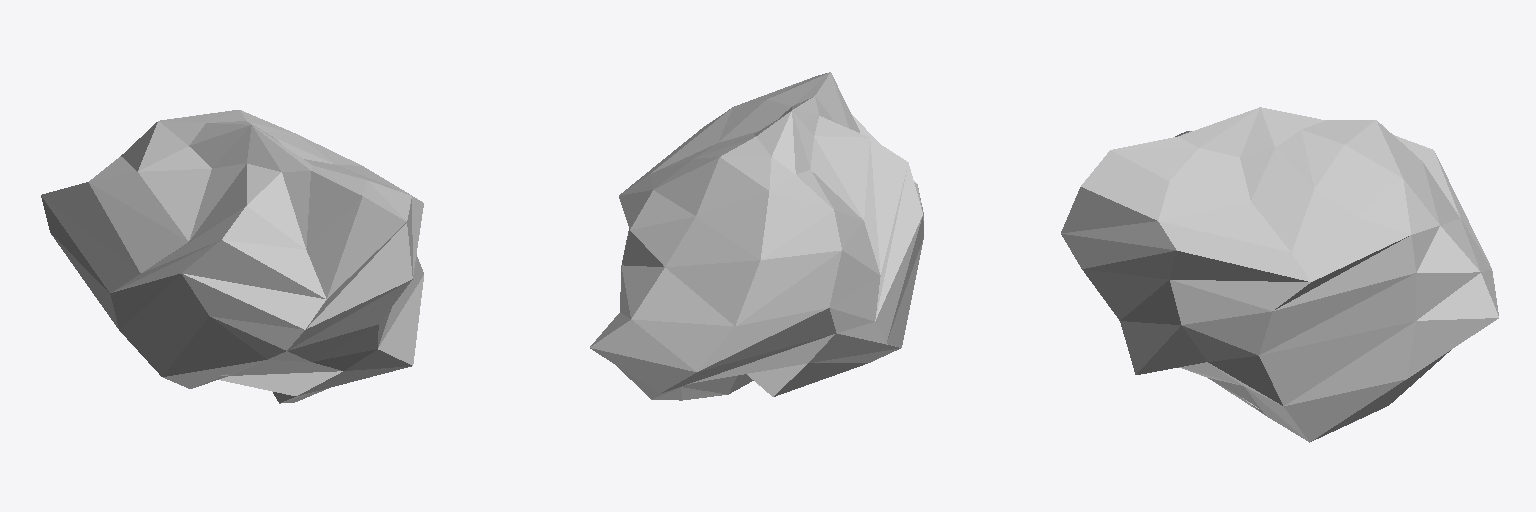
Rendered from asteroid1.obj.
3 renders of one model, left to right at view 1: azimuth 30°, elevation 25°; view 2: azimuth 150°, elevation 25°; view 3: azimuth 270°, elevation 25°, orthographic.
Parts seen in each view (by area): view 1: 000_Sphere_-_baked; view 2: 000_Sphere_-_baked; view 3: 000_Sphere_-_baked.
Boxes of the visible parts, box(x1,y1,x2,y2) form: 000_Sphere_-_baked: box(41, 110, 423, 403); 000_Sphere_-_baked: box(590, 72, 923, 400); 000_Sphere_-_baked: box(1061, 107, 1498, 442).
Size of the model in its own units: 122 by 119 by 167.